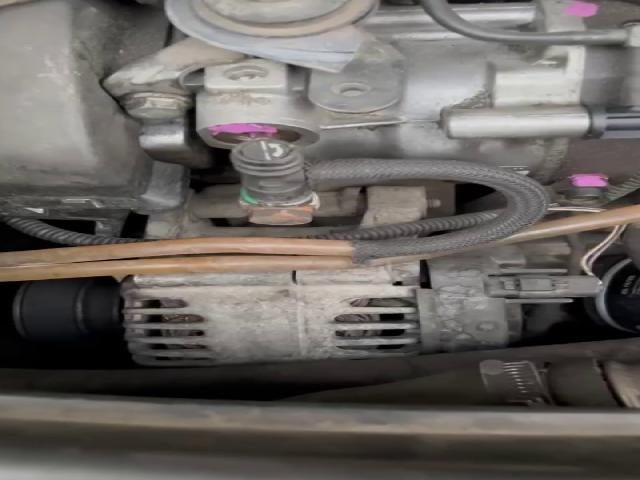alternator: (121, 262, 420, 366)
high_pressure_pump: (194, 7, 638, 204), (455, 0, 638, 31)
